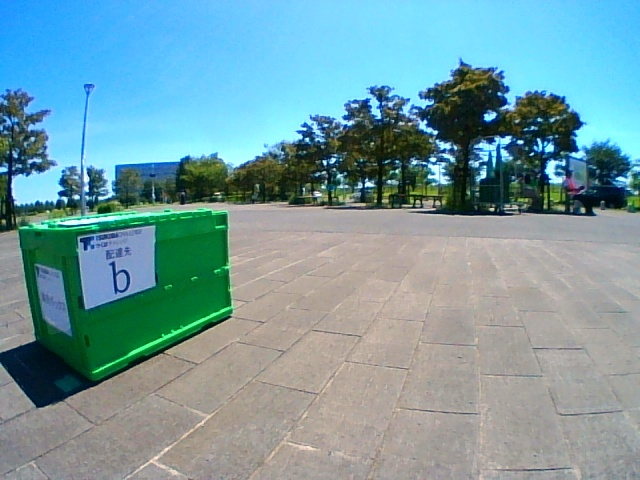green_box: (68, 217, 231, 317)
tag_b: (102, 239, 134, 296)
